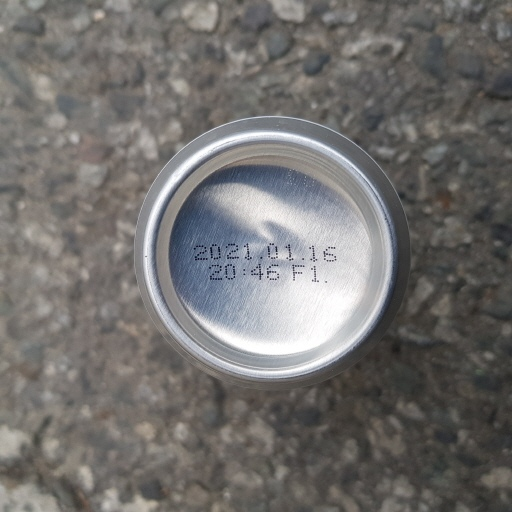Metal_0: (134, 111, 412, 389)
